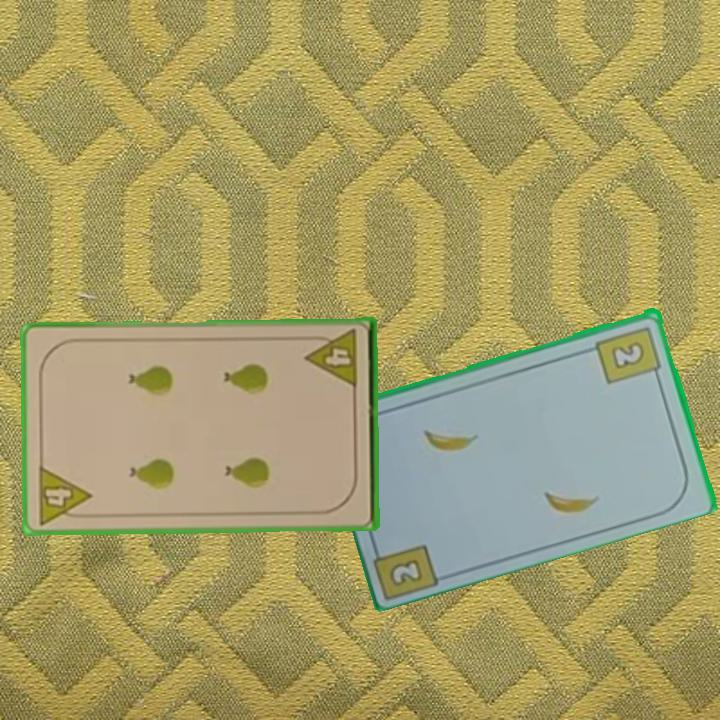2b: (593, 322, 664, 387), (389, 554, 426, 586)
4p: (34, 462, 94, 527), (303, 326, 360, 391)
